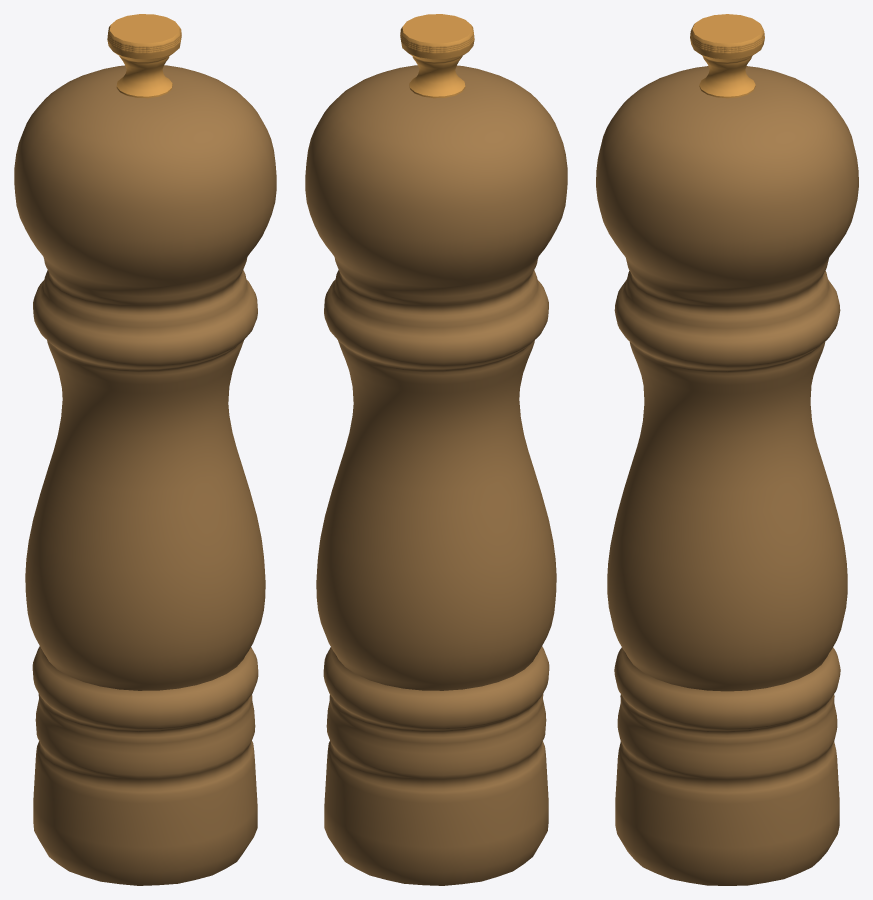
The model's file is PepperCracker.fbx.
The picture shows the model from 3 angles, left to right: view 1: azimuth 30°, elevation 25°; view 2: azimuth 150°, elevation 25°; view 3: azimuth 270°, elevation 25°; orthographic projection.
Visible parts, largest first — view 1: Pepper Cracker; view 2: Pepper Cracker; view 3: Pepper Cracker.
Part boxes in pixels (x1,y1,x2,y2): Pepper Cracker: [14, 14, 276, 885]; Pepper Cracker: [305, 14, 567, 885]; Pepper Cracker: [596, 14, 858, 885].
Size of the model in its own units: 0.0661 by 0.2282 by 0.0661.
